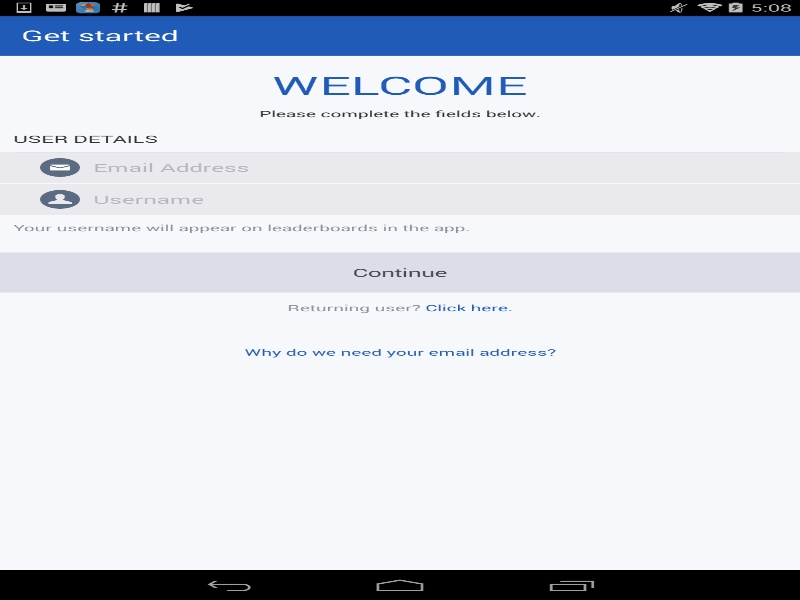Input: (93, 151, 786, 183), (93, 183, 786, 215)
